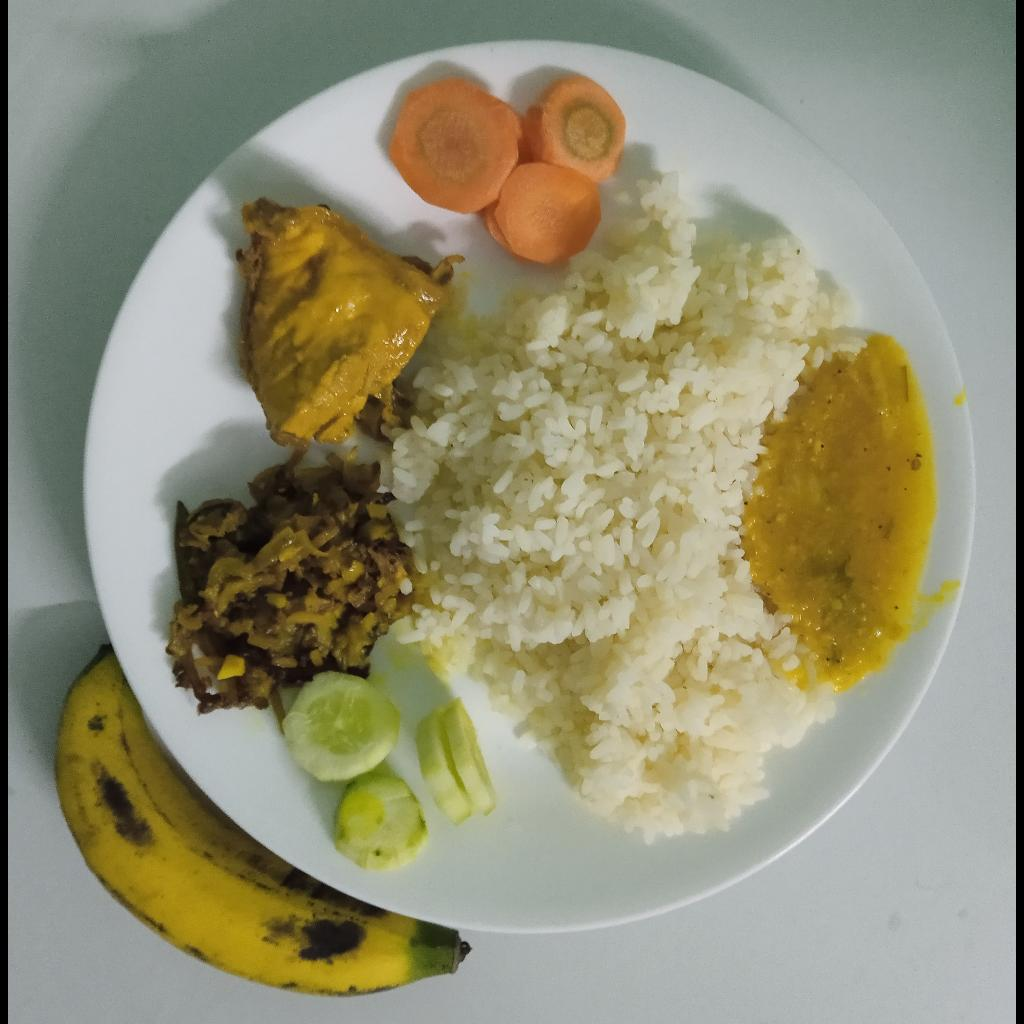banana: (57, 642, 473, 995)
carrot: (387, 75, 626, 261)
chicken: (238, 197, 461, 448)
cucumber: (285, 671, 428, 868), (414, 697, 496, 824)
daal: (744, 334, 937, 679)
dundol: (164, 459, 407, 717)
rice: (390, 168, 865, 834)
